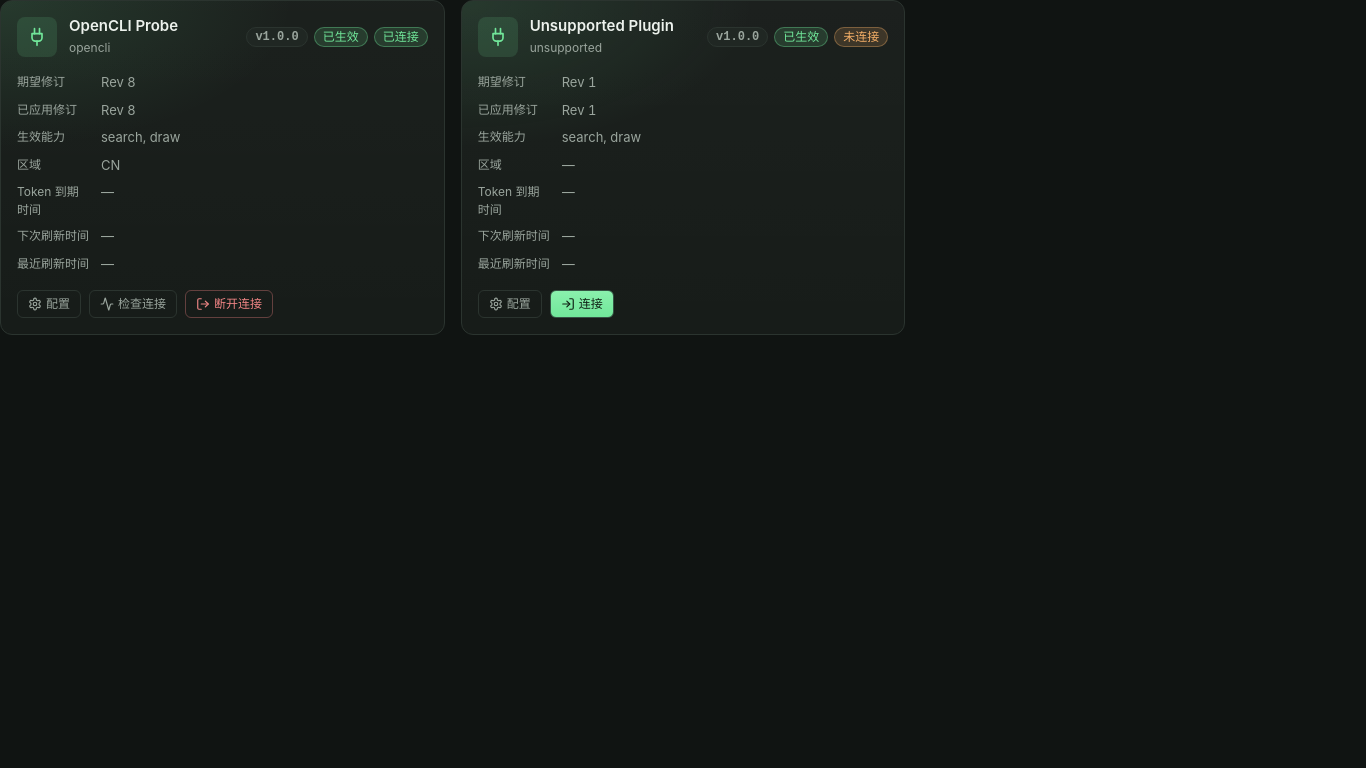
Test case: PluginsTab › never issues a connection check from render, list load, or for instances without the capability
Expected: the heading "OpenCLI Probe" is shown, [69, 16, 178, 35]
Expected: the heading "Unsupported Plugin" is shown, [530, 17, 687, 36]
打开其它弹层同样不触发检查。
Click the button with aria-label "配置 Unsupported Plugin" at point(510, 304), box [478, 290, 542, 318]
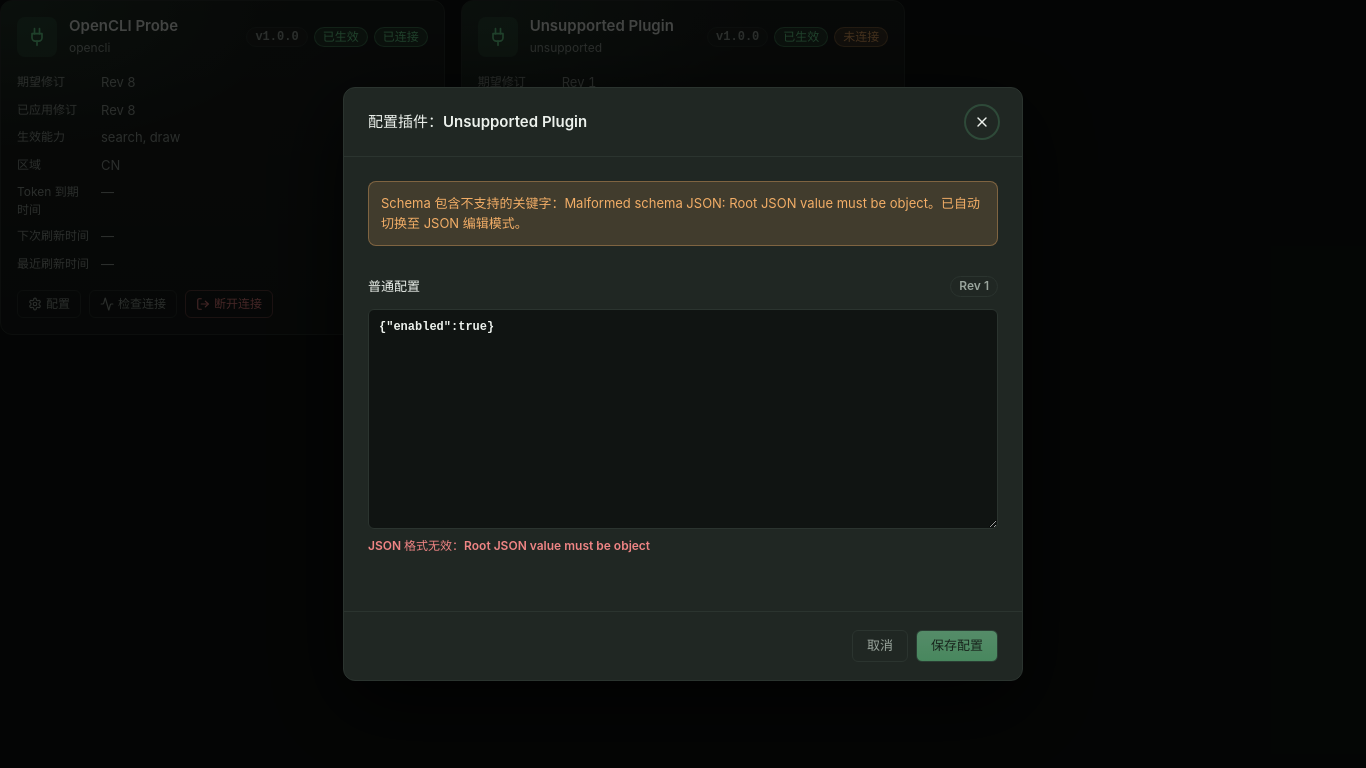
Now the dialog is shown, box [343, 87, 1023, 681]
